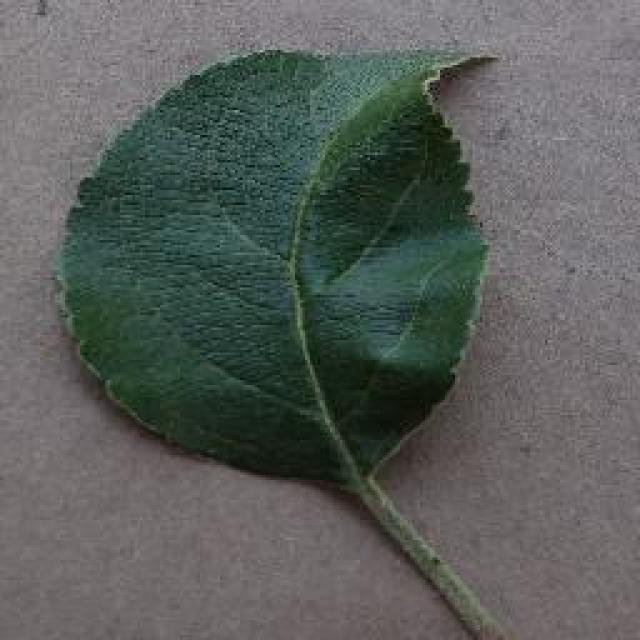Apple___healthy: (45, 35, 537, 640)
